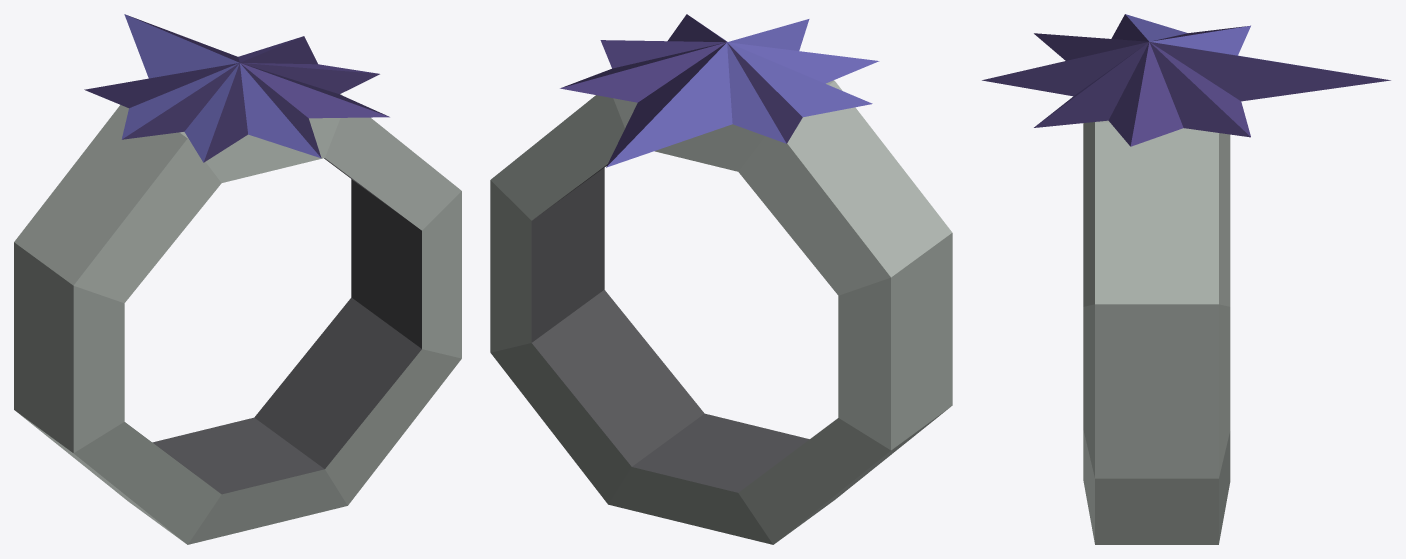
Rendered from Item_Ring_03.fbx.
3 renders of one model, left to right at view 1: azimuth 30°, elevation 25°; view 2: azimuth 150°, elevation 25°; view 3: azimuth 270°, elevation 25°, orthographic. The views are drawn at different scales.
Visible parts, largest first — view 1: SM_Item_Ring_03; view 2: SM_Item_Ring_03; view 3: SM_Item_Ring_03.
Part boxes in pixels (left/top/right/bottom): SM_Item_Ring_03: left=14, top=14, right=461, bottom=544; SM_Item_Ring_03: left=490, top=14, right=952, bottom=544; SM_Item_Ring_03: left=982, top=14, right=1390, bottom=544.
Size of the model in its own units: 5.07 by 5.53 by 4.46.
